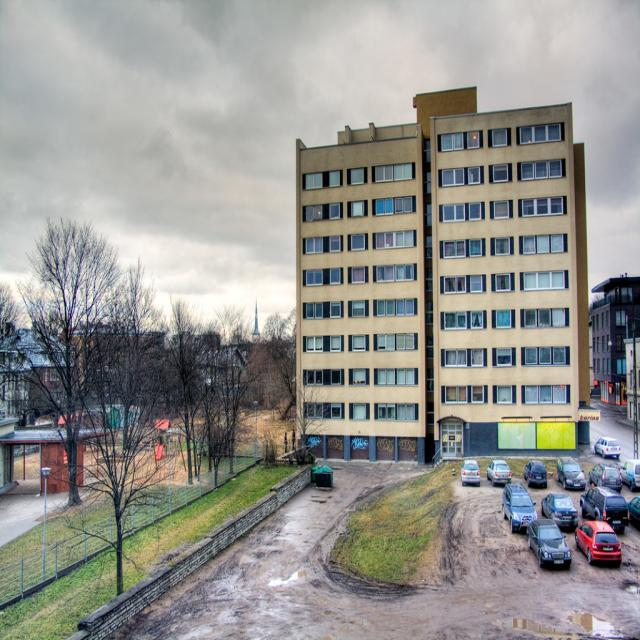car: (575, 514, 623, 565), (526, 520, 570, 566), (501, 480, 534, 529), (556, 452, 585, 486), (488, 456, 512, 480), (461, 454, 481, 481), (525, 460, 546, 485), (594, 435, 623, 453)
